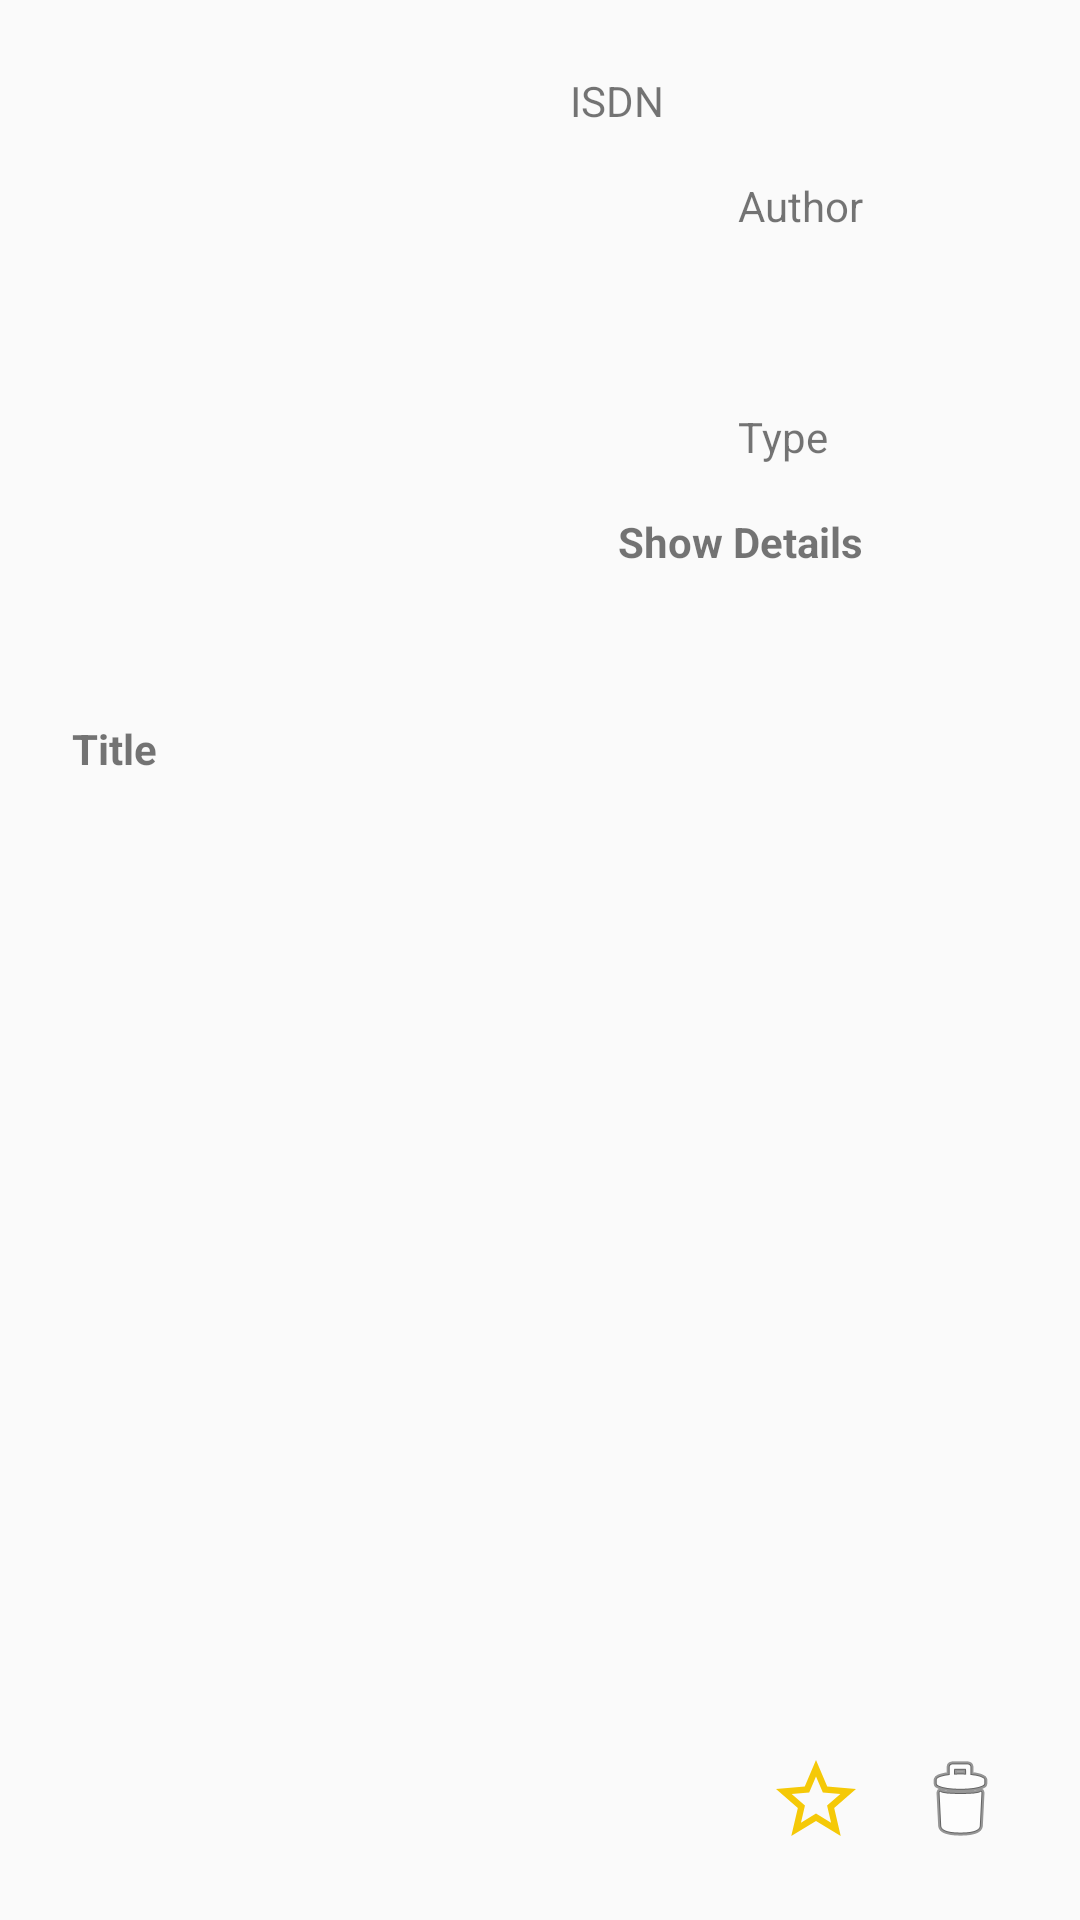

Icon click points for this 1080px×1920px phone screenshot, format (x,y):
delete: (960,1798)
